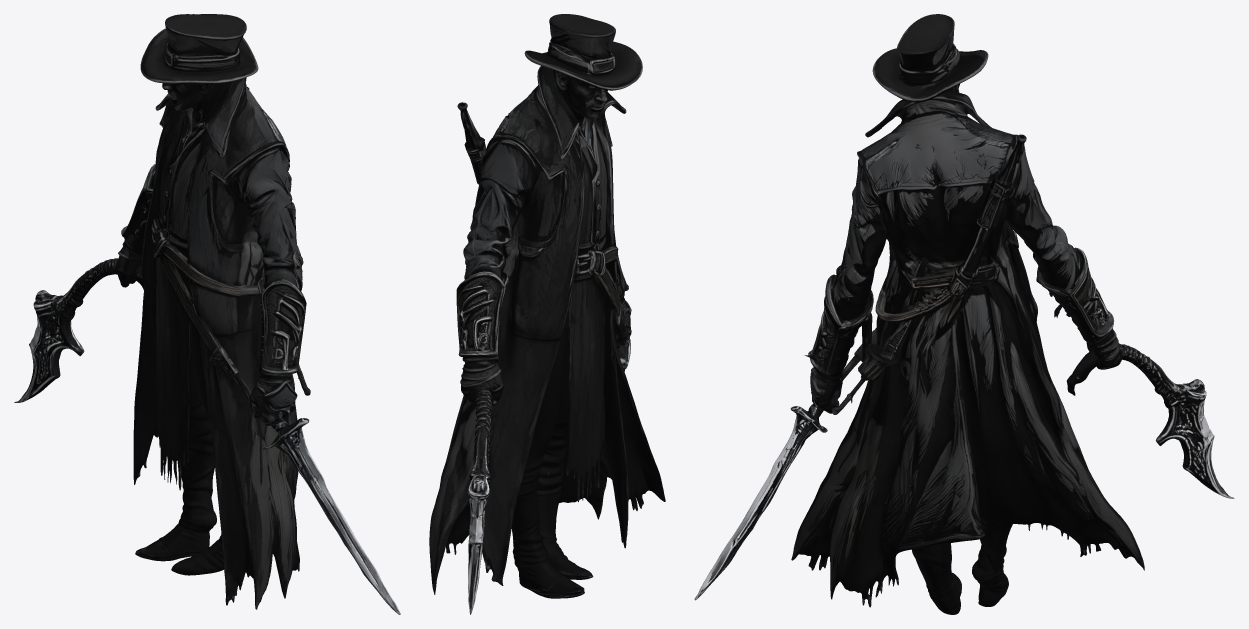
The model's file is hunter_light.glb.
The picture shows the model from 3 angles, left to right: view 1: azimuth 30°, elevation 25°; view 2: azimuth 150°, elevation 25°; view 3: azimuth 270°, elevation 25°; orthographic projection. The views are drawn at different scales.
Size of the model in its own units: 0.3092 by 0.979 by 0.8535.
Materials: 11 (11 with a texture image).
